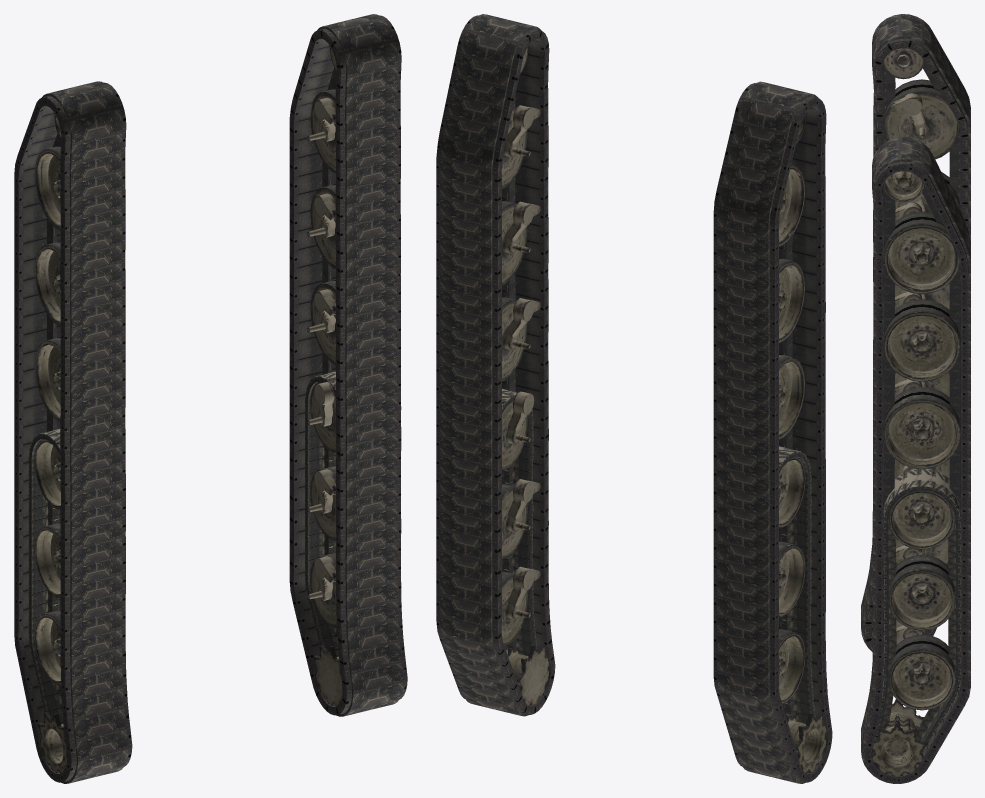
Rendered from Chassis.glb.
3 renders of one model, left to right at view 1: azimuth 30°, elevation 25°; view 2: azimuth 150°, elevation 25°; view 3: azimuth 270°, elevation 25°, orthographic. The views are drawn at different scales.
Visible parts, largest first — view 1: set_0_group_1, set_1_group_1, set_2_group_0, set_3_group_0, set_1_group_0, set_0_group_0; view 2: set_1_group_1, set_0_group_1, set_3_group_0, set_2_group_0, set_1_group_0, set_0_group_0; view 3: set_3_group_0, set_0_group_1, set_1_group_1, set_2_group_0, set_0_group_0.
Part boxes in pixels (<box>): set_0_group_1: <box>289,14,407,716</box>; set_1_group_1: <box>14,81,132,783</box>; set_2_group_0: <box>34,113,67,773</box>; set_3_group_0: <box>307,47,342,706</box>; set_1_group_0: <box>28,429,63,724</box>; set_0_group_0: <box>305,371,338,656</box>; set_1_group_1: <box>713,81,832,783</box>; set_0_group_1: <box>436,14,555,716</box>; set_3_group_0: <box>501,47,549,705</box>; set_2_group_0: <box>779,114,826,773</box>; set_1_group_0: <box>779,446,815,723</box>; set_0_group_0: <box>502,389,537,656</box>; set_3_group_0: <box>871,171,960,776</box>; set_0_group_1: <box>861,137,970,783</box>; set_1_group_1: <box>861,14,970,651</box>; set_2_group_0: <box>871,48,960,644</box>; set_0_group_0: <box>873,469,960,753</box>.
Size of the model in its own units: 3.49 by 6.78 by 1.08.
6 materials, 6 textured.
